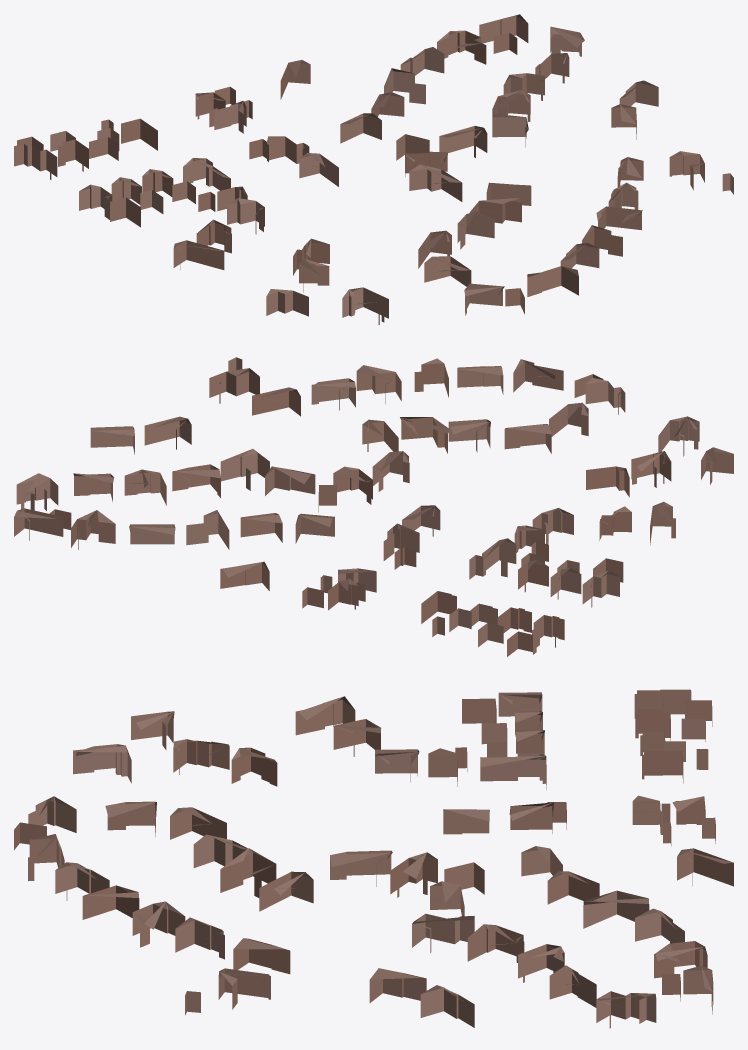
The model's file is c_1647_17831_buildings_residential.glb.
The picture shows the model from 3 angles, top to bottom: view 1: azimuth 30°, elevation 25°; view 2: azimuth 150°, elevation 25°; view 3: azimuth 270°, elevation 25°; orthographic projection. The views are drawn at different scales.
Visible parts, largest first — view 1: geometry_0; view 2: geometry_0; view 3: geometry_0.
Part boxes in pixels (x1,y1,x2,y2): geometry_0: (14,14,733,324); geometry_0: (14,357,733,656); geometry_0: (14,689,733,1028).
Bounding box in the file's own units: 266 × 10.94 × 252.
